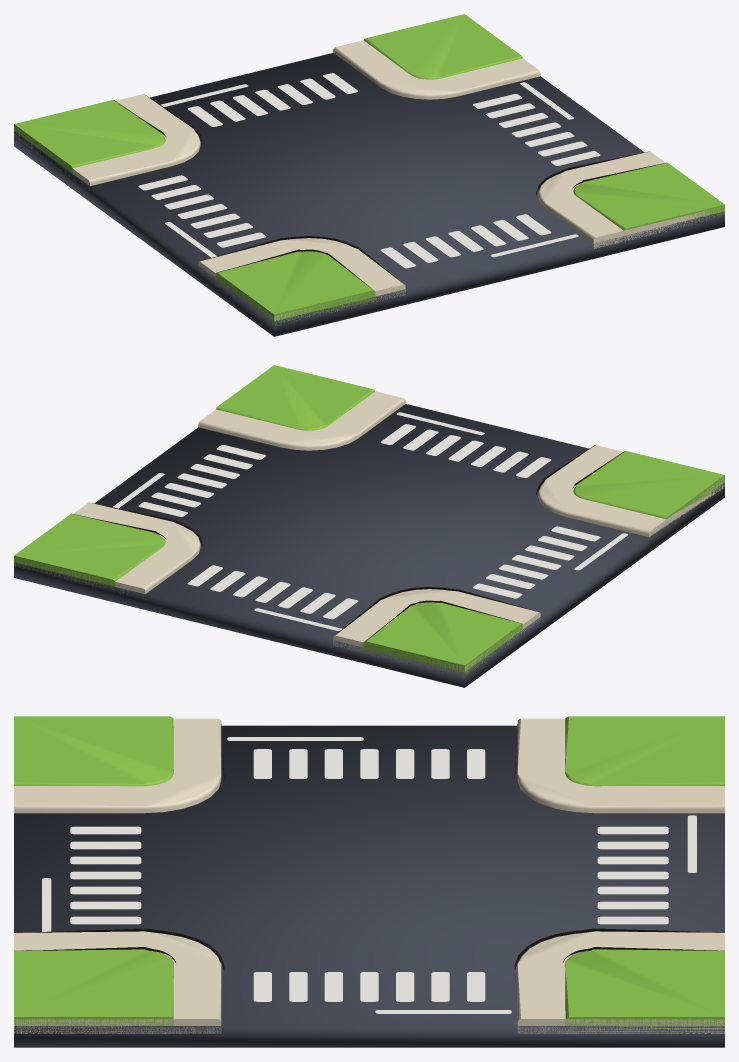
Rendered from Road_Cross.fbx.
3 views of the same model, one above another, from view 1: azimuth 30°, elevation 25°; view 2: azimuth 150°, elevation 25°; view 3: azimuth 270°, elevation 25° (orthographic). The views are drawn at different scales.
Parts seen in each view (by area): view 1: Tile_Road_Cross_Asphalt, Tile_Road_Cross_Grass, Tile_Road_Cross_Sidewalk, Tile_Road_Cross_LineWhite, Tile_Road_Cross_Outline; view 2: Tile_Road_Cross_Asphalt, Tile_Road_Cross_Grass, Tile_Road_Cross_Sidewalk, Tile_Road_Cross_LineWhite, Tile_Road_Cross_Outline; view 3: Tile_Road_Cross_Asphalt, Tile_Road_Cross_Grass, Tile_Road_Cross_Sidewalk, Tile_Road_Cross_LineWhite, Tile_Road_Cross_Outline.
Part boxes in pixels (x1,y1,x2,y2): Tile_Road_Cross_Asphalt: (14, 53, 724, 336); Tile_Road_Cross_Grass: (14, 14, 724, 324); Tile_Road_Cross_Sidewalk: (14, 40, 723, 325); Tile_Road_Cross_LineWhite: (138, 73, 600, 268); Tile_Road_Cross_Outline: (114, 96, 661, 287); Tile_Road_Cross_Asphalt: (14, 404, 724, 687); Tile_Road_Cross_Grass: (14, 365, 724, 675); Tile_Road_Cross_Sidewalk: (22, 391, 723, 676); Tile_Road_Cross_LineWhite: (112, 412, 628, 630); Tile_Road_Cross_Outline: (75, 448, 619, 638); Tile_Road_Cross_Asphalt: (14, 725, 724, 1047); Tile_Road_Cross_Grass: (14, 716, 724, 1031); Tile_Road_Cross_Sidewalk: (14, 718, 724, 1033); Tile_Road_Cross_LineWhite: (42, 737, 696, 1013); Tile_Road_Cross_Outline: (17, 724, 720, 977).
Bounding box in the file's own units: 24 × 1.22 × 24.
